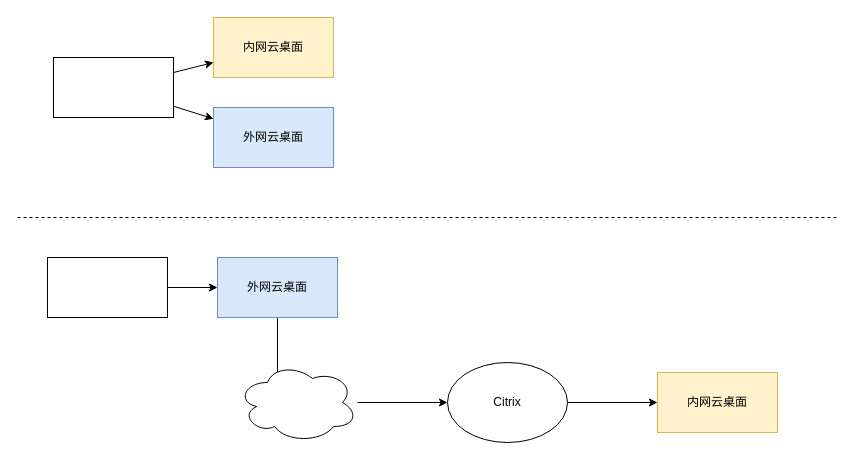
Some shapes in this 856 by 460 pixel diagram are drawn without their labels. The shapes that lost their labels are listed below. From the top down, each one's centre as x and y in pixels, then its label:
the point at 113,87: Citrix 客户端
the point at 107,287: 深信服盒子
the point at 297,402: VPN
